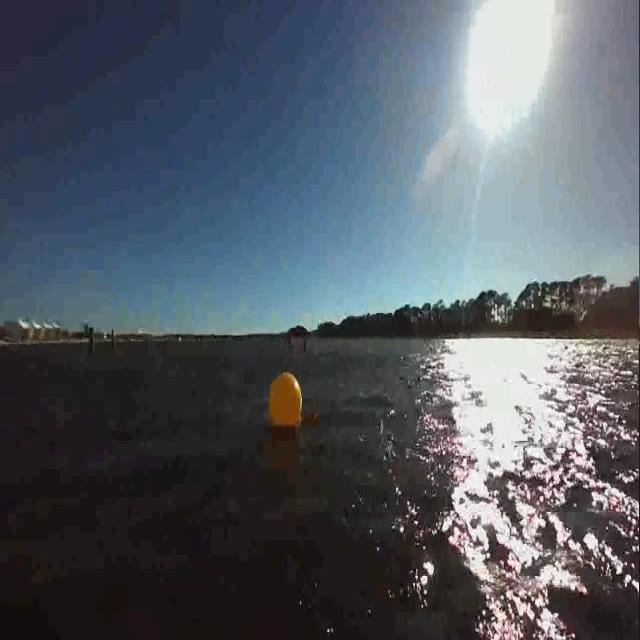yellow-buoy: (269, 371, 303, 429)
